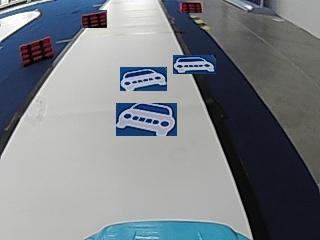bomb: (19, 35, 52, 65)
